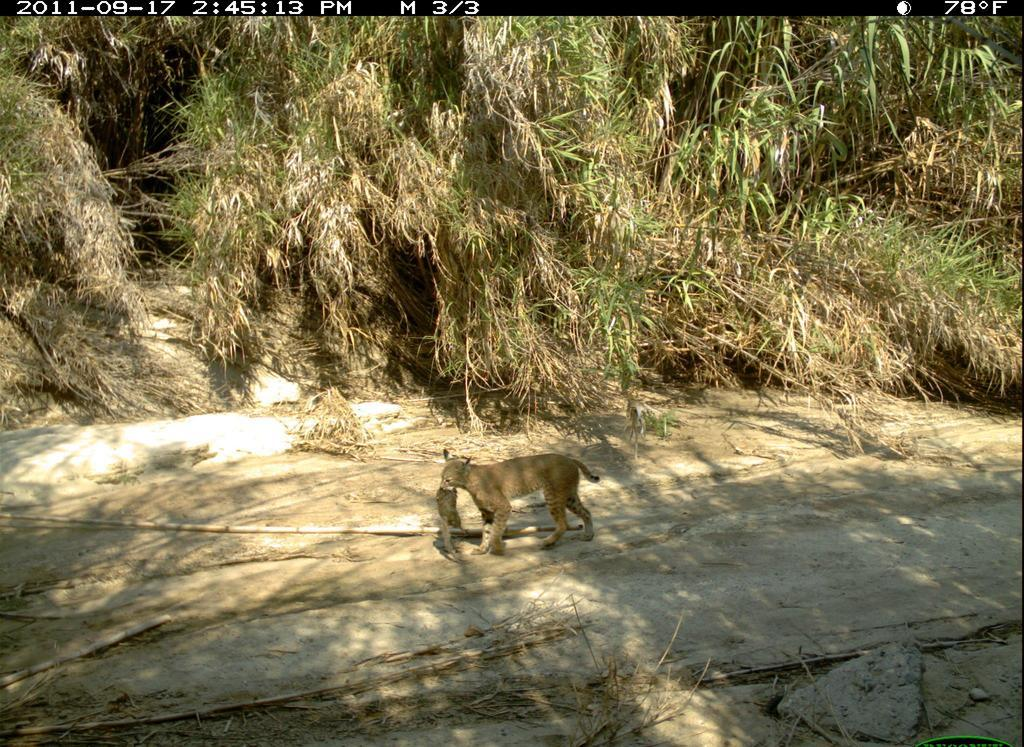squirrel: (437, 481, 472, 558)
